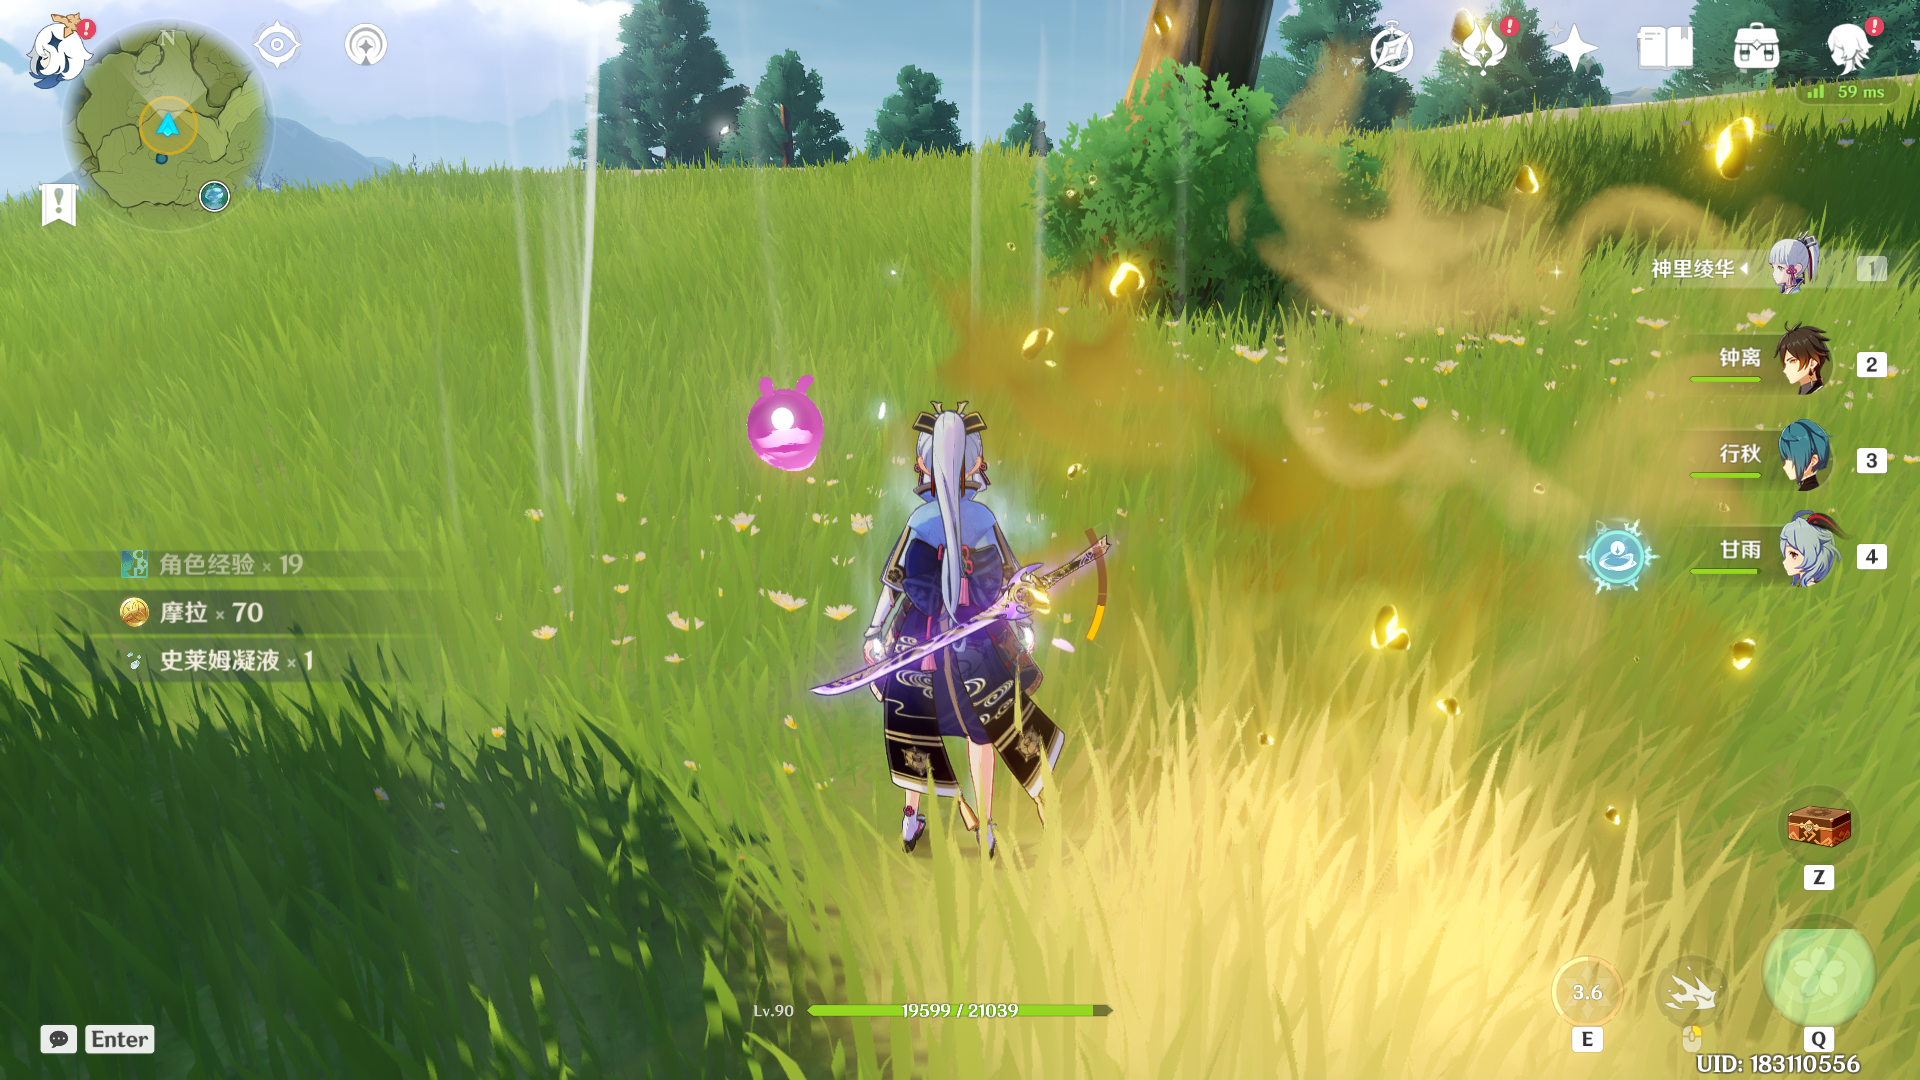character: (771, 378, 1145, 876)
